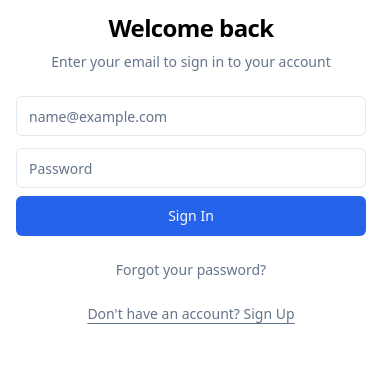
AuthForm › handles API errors correctly
Type "user@example.com" into the field with placeholder "name@example.com". click: (191, 116)
box: [16,96,366,136]
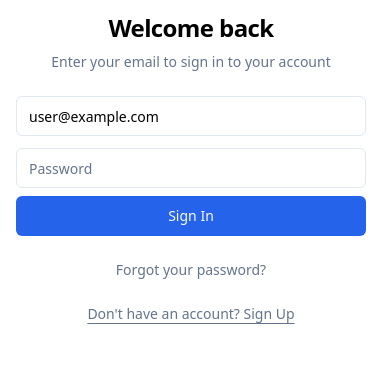
Type "wrongpass" into the password field with placeholder "Password". click: (191, 168)
box: [16,148,366,188]
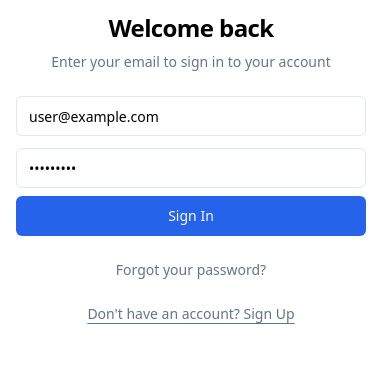
Click the button "Sign In". click: (191, 216)
box: [16,196,366,236]
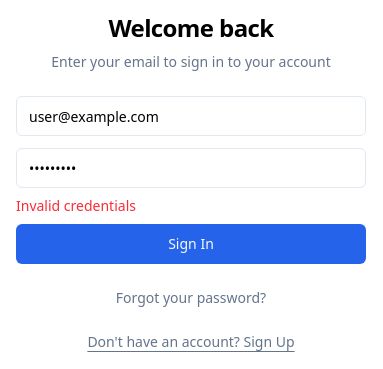
Now the text "Invalid credentials" is shown, box [16,196,136,215]
